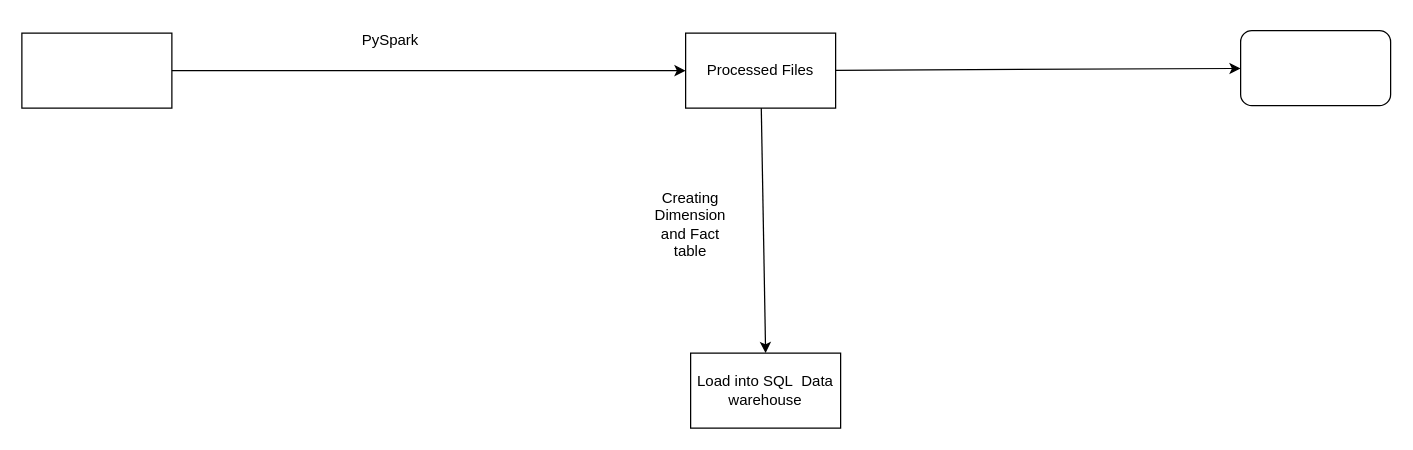
This 1413x450 diagram has some shape labels left out. The shapes that lost their labels are listed below. From the top down, each one's box as (x1, y1, x2, y2) in pixels, then its label:
(21, 32, 172, 108): Raw CSV files
(1239, 29, 1391, 106): Power Bi for Data visualization
